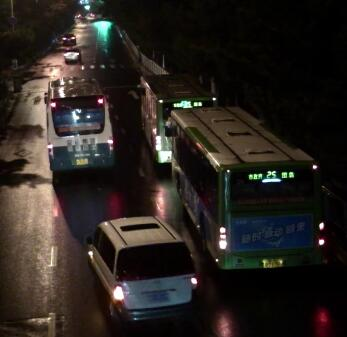bus: (166, 105, 327, 275), (134, 70, 217, 168), (43, 79, 117, 175)
car: (82, 217, 199, 331), (61, 44, 79, 63), (61, 32, 78, 43)
